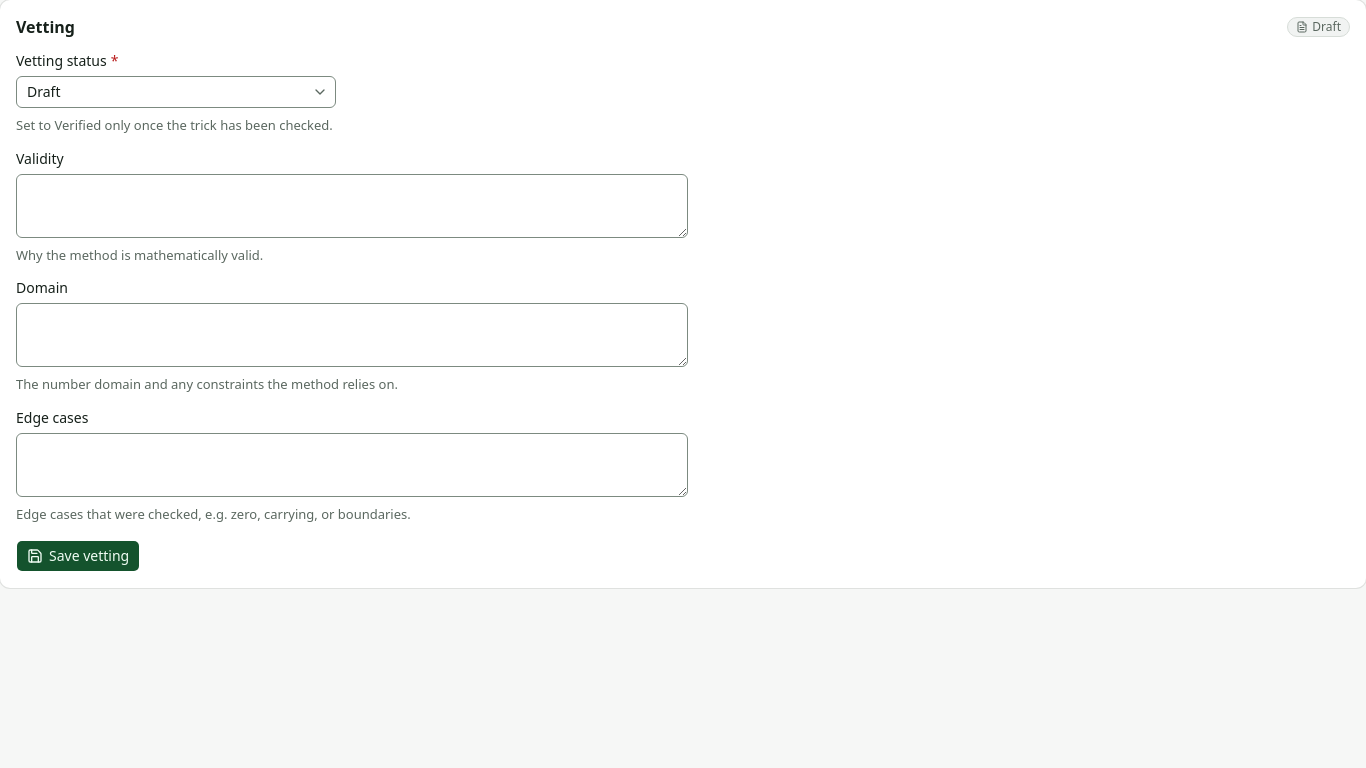
Test case: VettingPanel › gives client feedback and does not submit when VERIFIED fields are missing
Select "Verified" in the dropdown labelled "Vetting status" at (176, 92), box [16, 76, 336, 108]
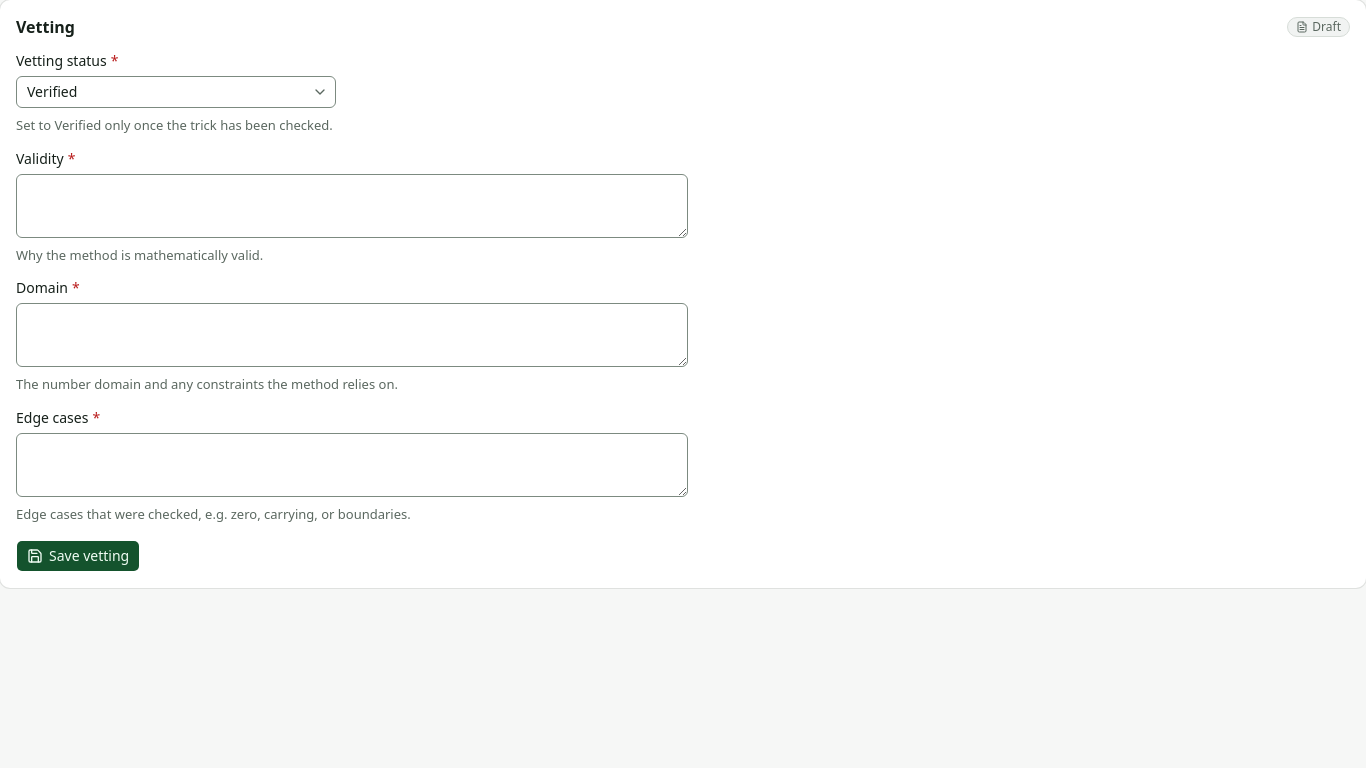
Click the button "Save vetting" at (78, 556), box [16, 540, 140, 572]
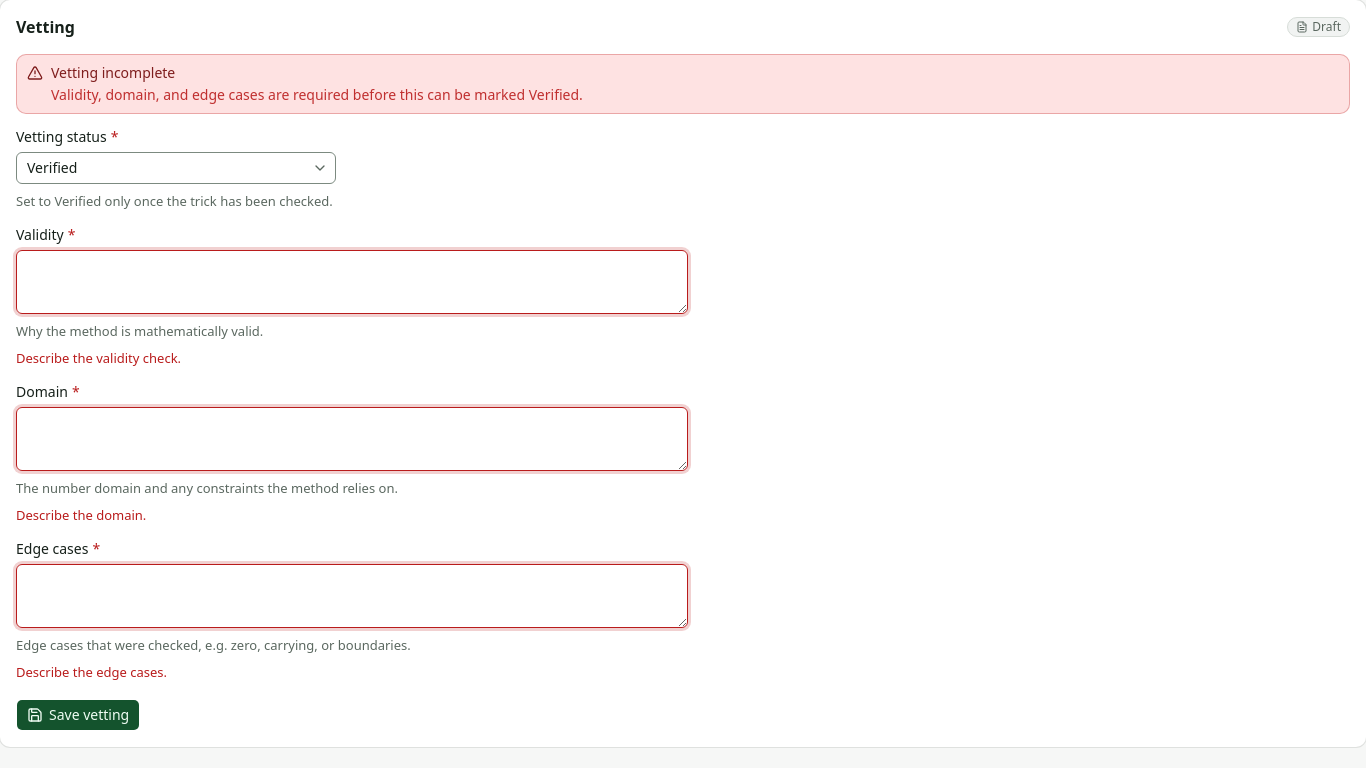
Result: the text "required before this can be marked Verified" is shown at [51, 85, 583, 104]
Result: the text "Describe the validity check." is shown at [16, 349, 181, 367]
